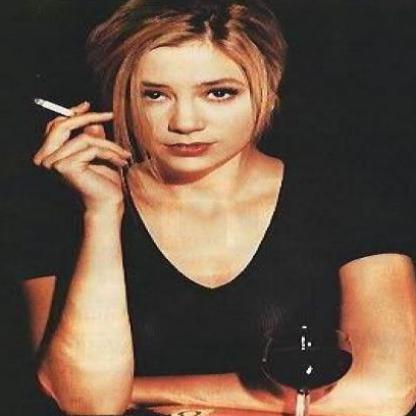cigarette: (31, 96, 80, 121)
person: (28, 0, 416, 415)
